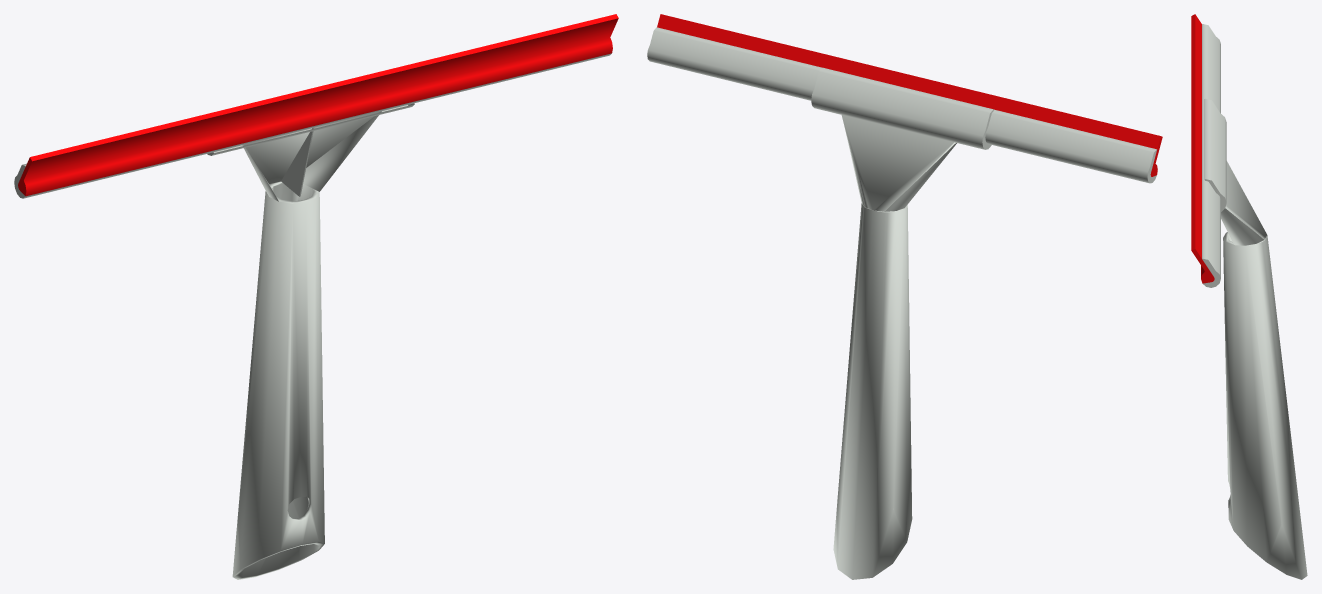
Rendered from squeegee.glb.
3 views of the same model, side by side, from view 1: azimuth 30°, elevation 25°; view 2: azimuth 150°, elevation 25°; view 3: azimuth 270°, elevation 25° (orthographic). The views are drawn at different scales.
Visible parts, largest first — view 1: Ikea-Letten-squeegee.001; view 2: Ikea-Letten-squeegee.001; view 3: Ikea-Letten-squeegee.001.
Part boxes in pixels (bbox=[...]): Ikea-Letten-squeegee.001: bbox=[14, 14, 618, 579]; Ikea-Letten-squeegee.001: bbox=[647, 14, 1162, 579]; Ikea-Letten-squeegee.001: bbox=[1191, 14, 1307, 579].
Size of the model in its own units: 2.35 by 2.08 by 0.4921.
